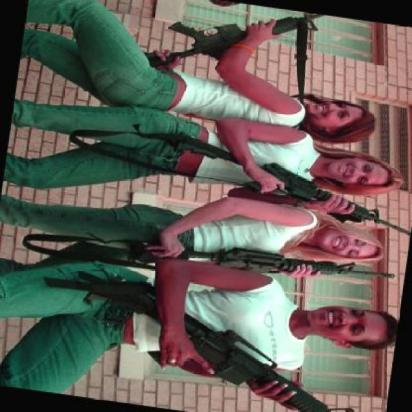Gun: (79, 328, 350, 412), (138, 0, 349, 97), (160, 138, 408, 215), (123, 231, 393, 301)
